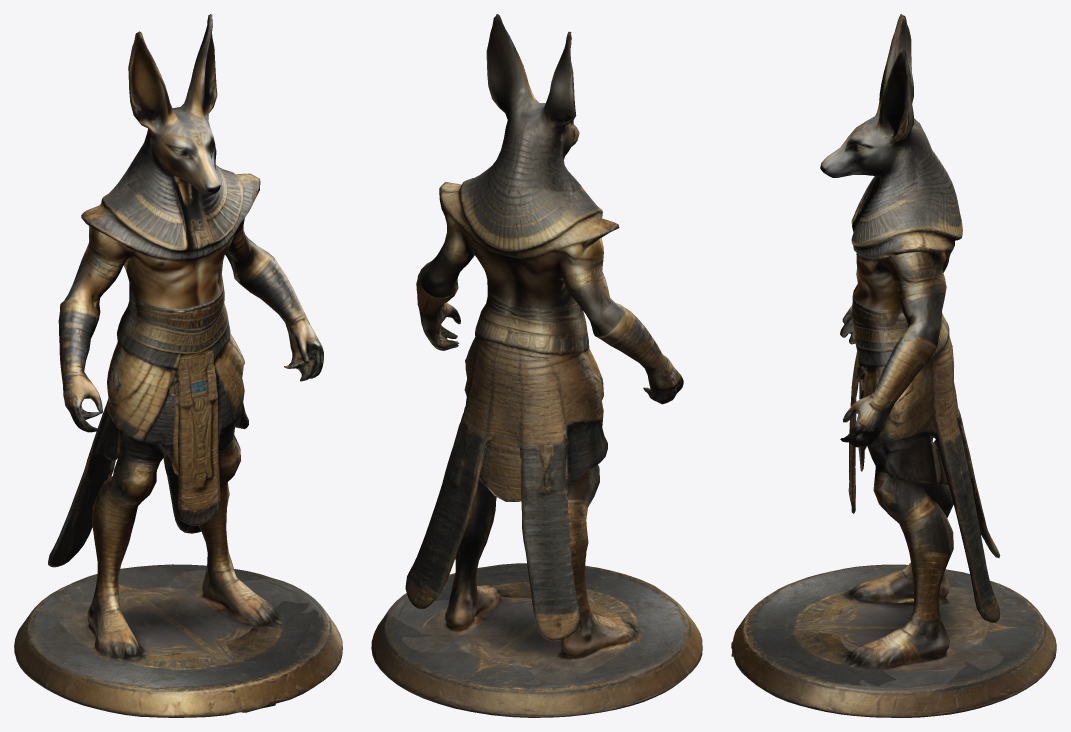
The model's file is masterfully_crafted_f_0206083007_texture.fbx.
3 renders of one model, left to right at view 1: azimuth 30°, elevation 25°; view 2: azimuth 150°, elevation 25°; view 3: azimuth 270°, elevation 25°, orthographic.
Parts seen in each view (by area): view 1: Mesh1_Mesh1.120; view 2: Mesh1_Mesh1.120; view 3: Mesh1_Mesh1.120.
Boxes of the visible parts, x1,y1,x2,y2 form: Mesh1_Mesh1.120: [14, 14, 342, 717]; Mesh1_Mesh1.120: [371, 14, 702, 717]; Mesh1_Mesh1.120: [731, 14, 1056, 717].
Size of the model in its own units: 95.4 by 200 by 95.31.
Materials: 1 (1 with a texture image).
